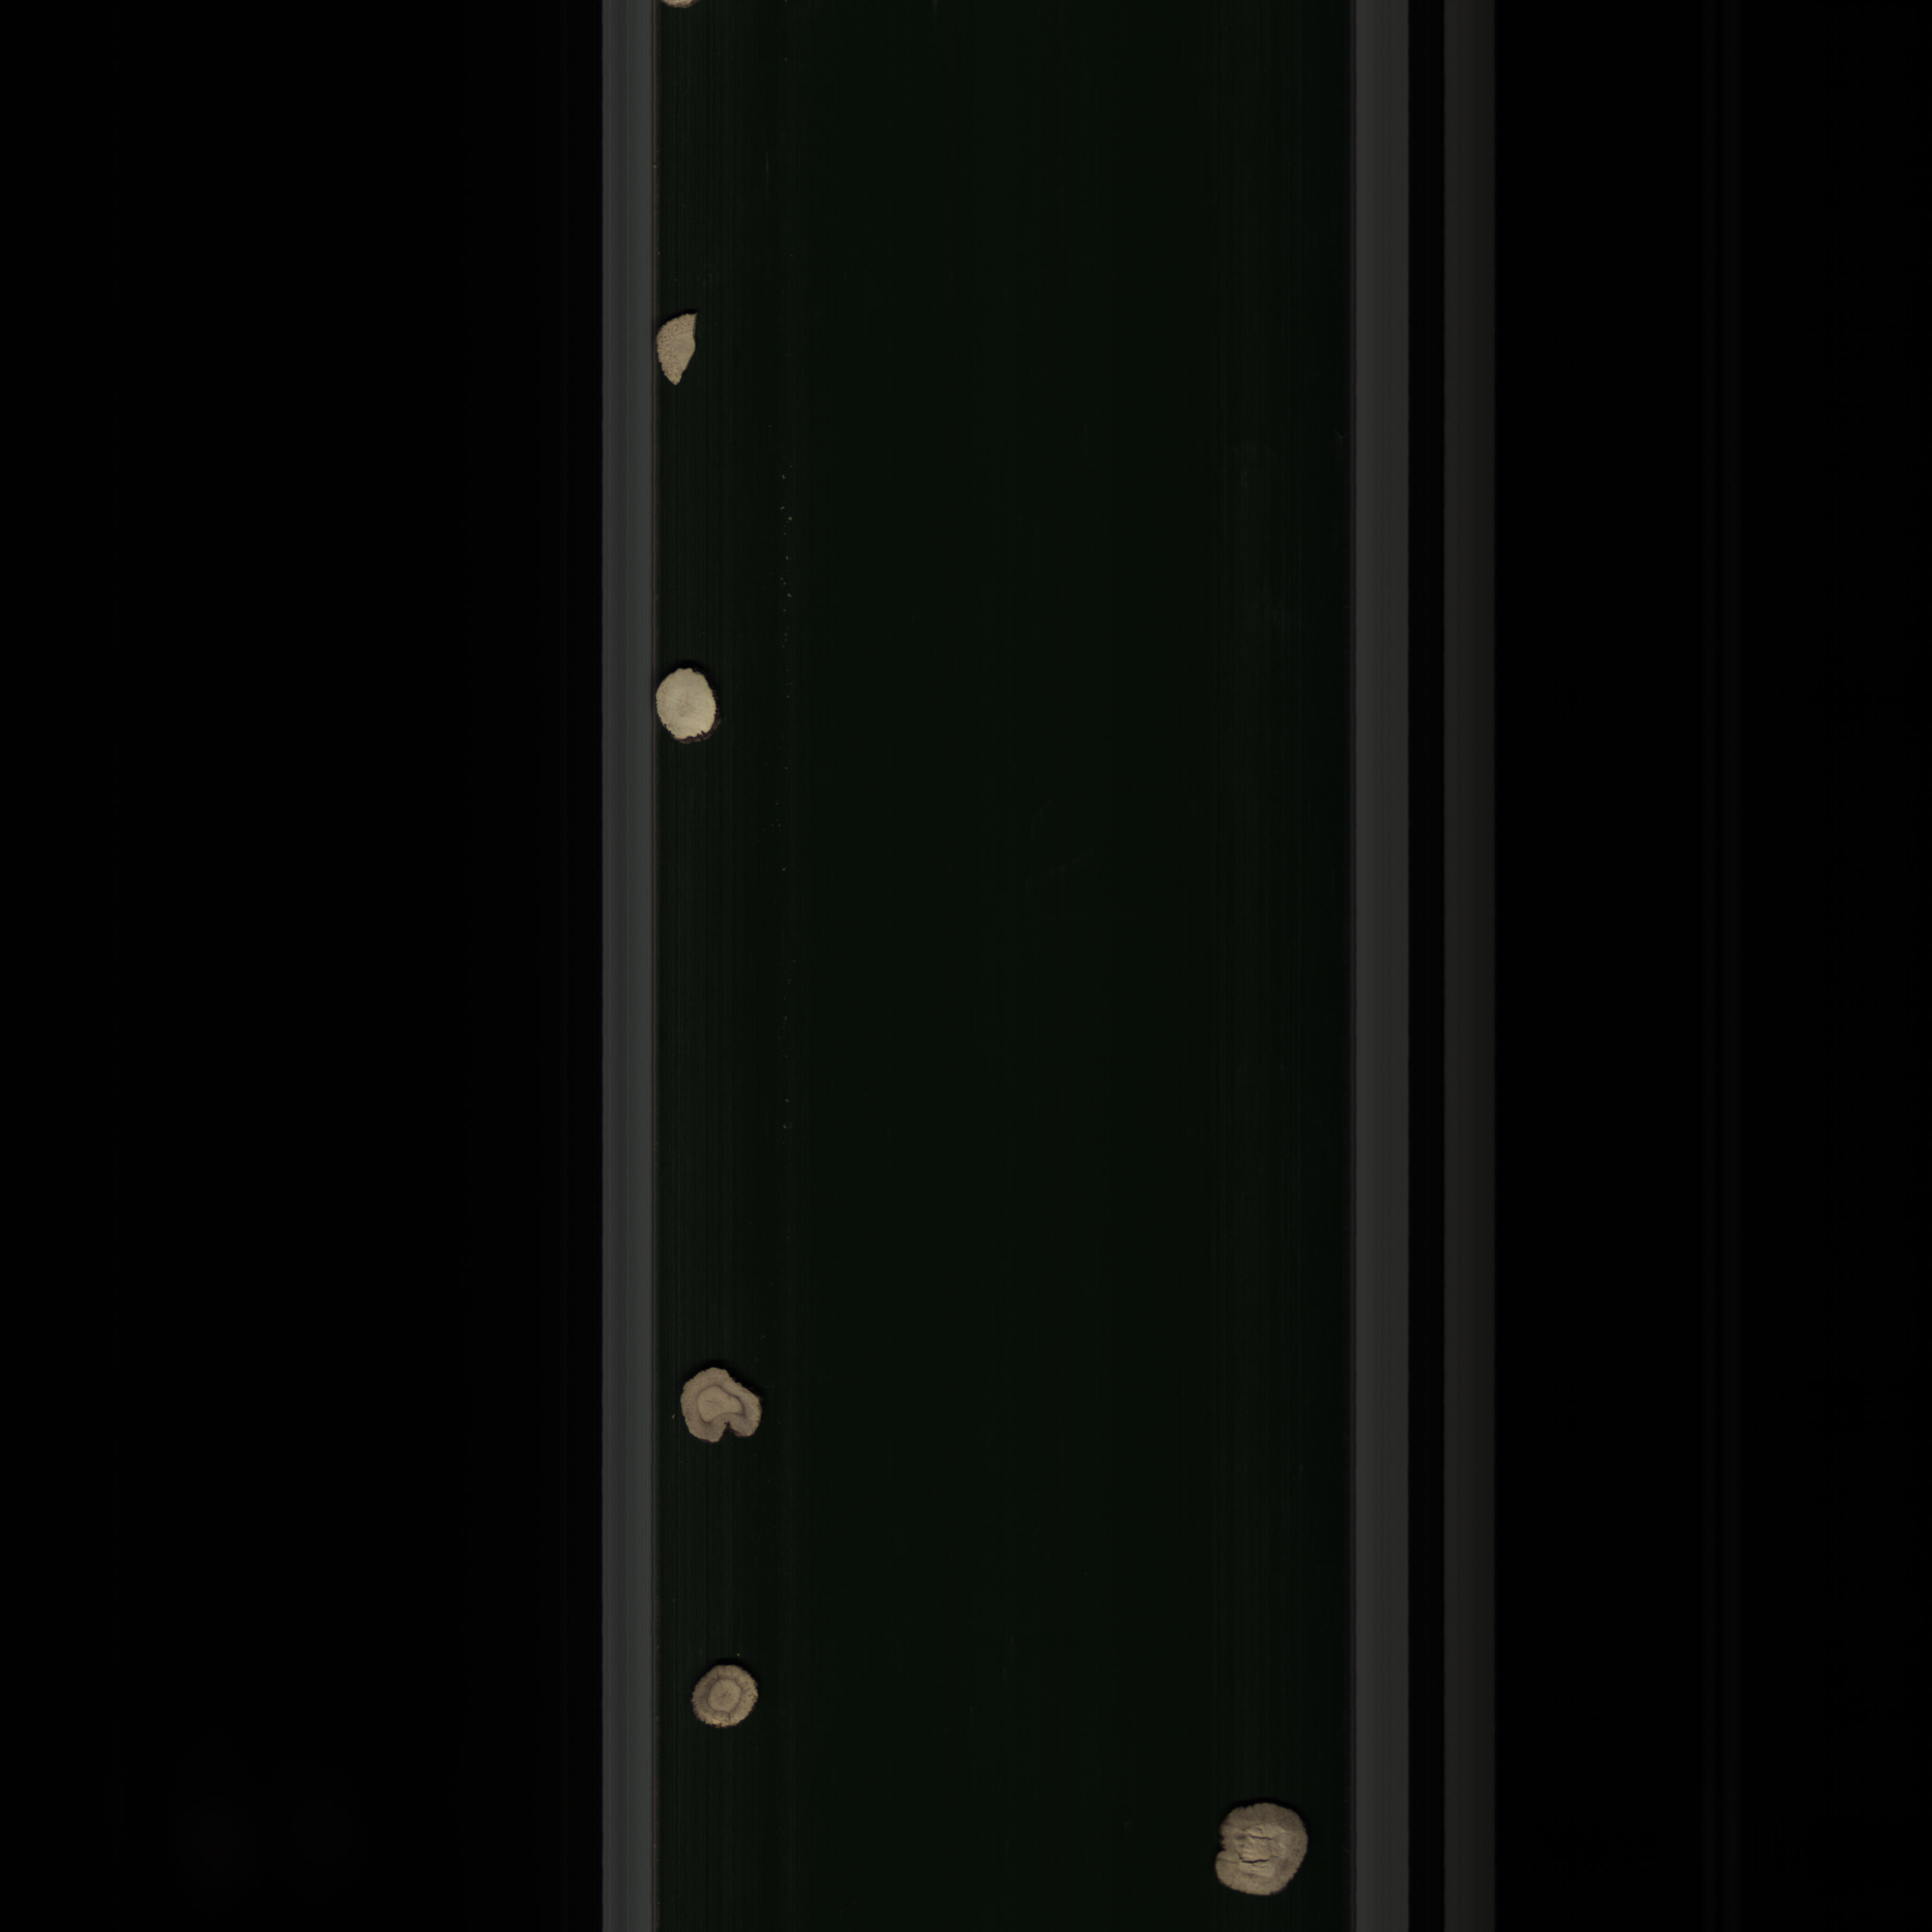debris: (651, 308, 702, 393)
distortion: (665, 1361, 778, 1454)
hole: (1210, 1792, 1320, 1907)
